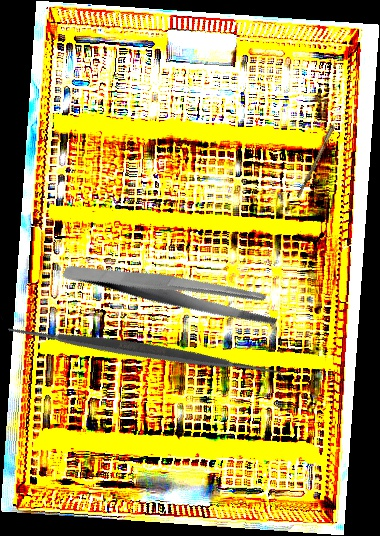Dressing Forceps: (61, 211, 285, 370)
Spatula Surgical: (0, 208, 289, 495)
Surgical Spoon: (296, 99, 347, 200)
